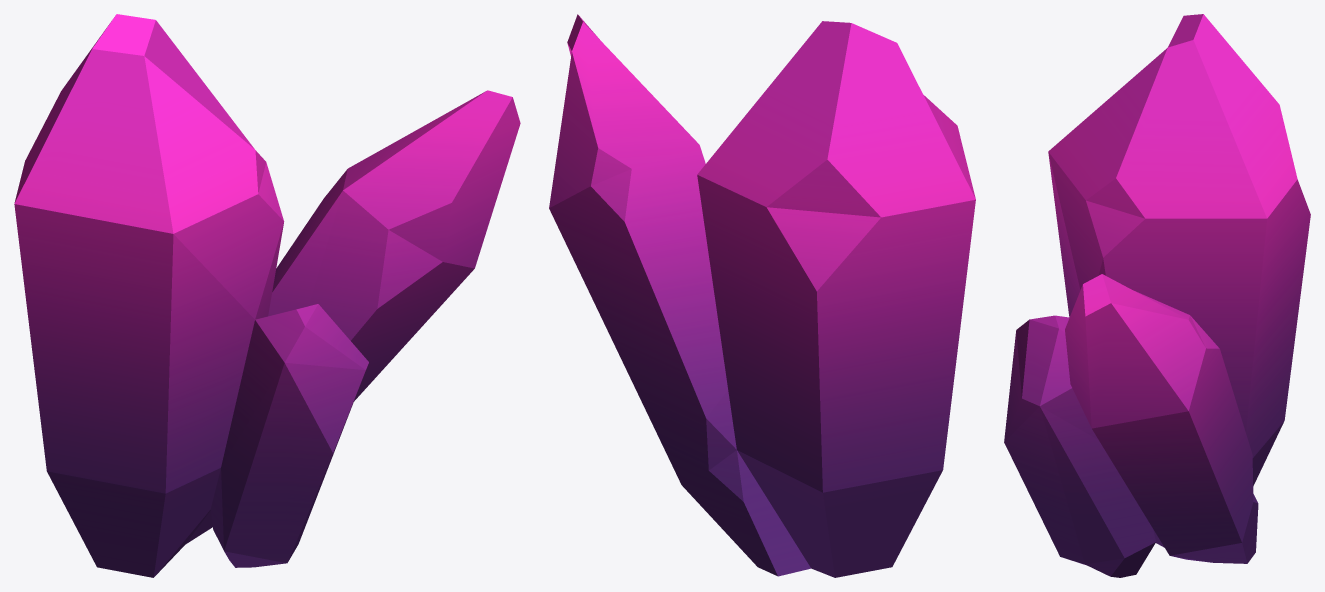
The model's file is Crystal_4.fbx.
The picture shows the model from 3 angles, left to right: view 1: azimuth 30°, elevation 25°; view 2: azimuth 150°, elevation 25°; view 3: azimuth 270°, elevation 25°; orthographic projection. The views are drawn at different scales.
Visible parts, largest first — view 1: Crystal_02; view 2: Crystal_02; view 3: Crystal_02.
Part boxes in pixels (left/top/right/bottom): Crystal_02: left=14, top=14, right=520, bottom=577; Crystal_02: left=549, top=14, right=975, bottom=577; Crystal_02: left=1004, top=14, right=1310, bottom=577.
Size of the model in its own units: 32.56 by 36.84 by 19.79.
